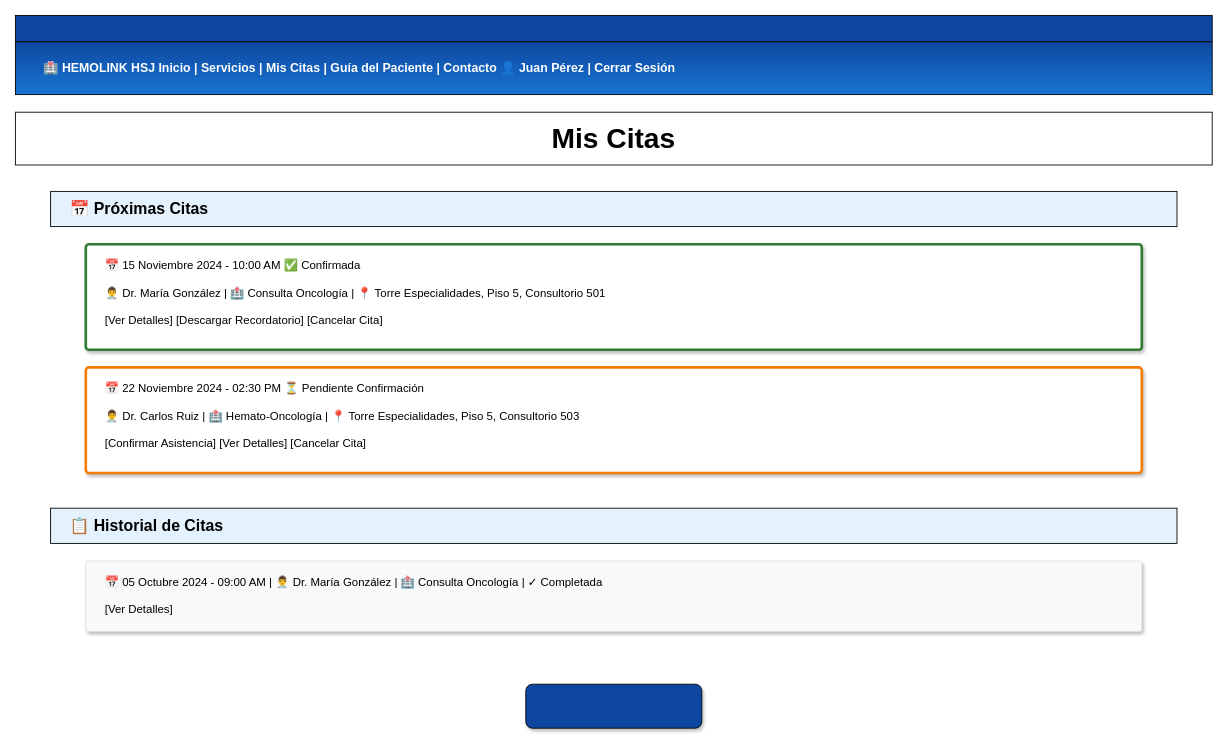
This 1228x750 diagram has some shape labels left out. Each missing label, with the centre of its shape:
"[+ Solicitar Nueva Cita]" goes at pixel 614 707.
"☎ +57 (601) 300 1234 | ✉ hemolink@hsj.edu.co 🕐 Lun-Vie: 7AM-5PM | Sáb: 8AM-12PM" goes at pixel 613 28.
